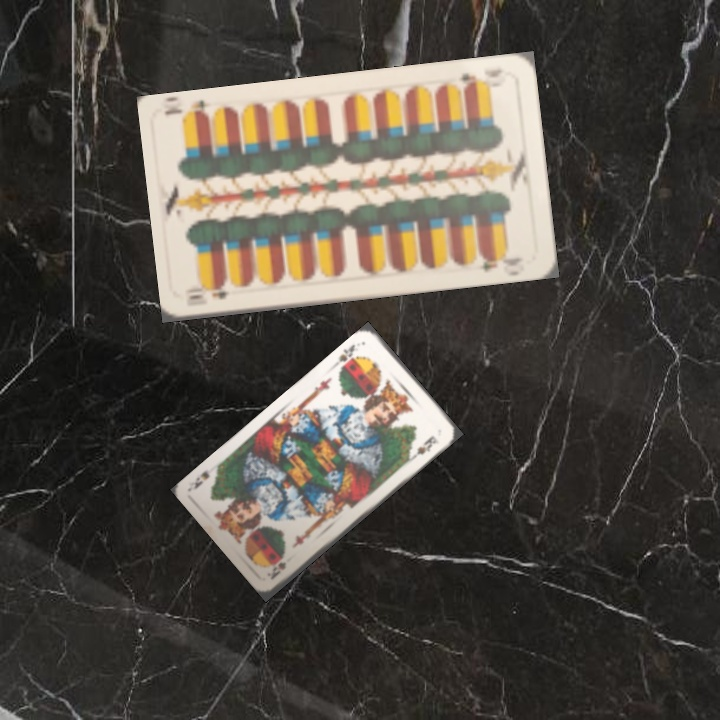E10: (183, 280, 230, 302), (456, 68, 490, 93)
SK: (332, 340, 360, 373), (263, 558, 289, 582)
